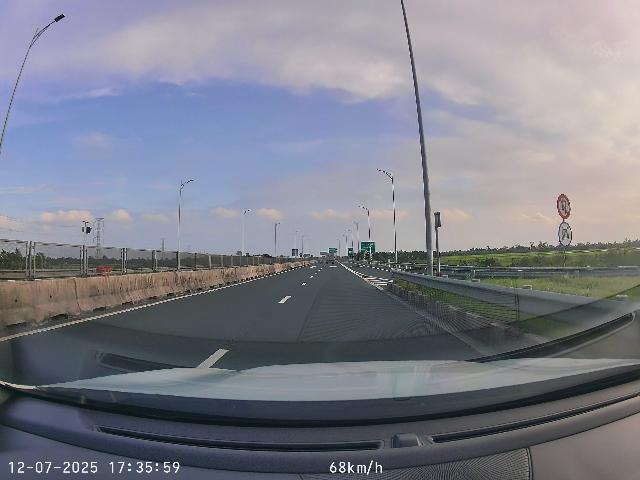124a-cam-quay-dau-xe: (557, 194, 571, 220)
134-het-han-che-toc-do-toi-da: (558, 222, 573, 247)
